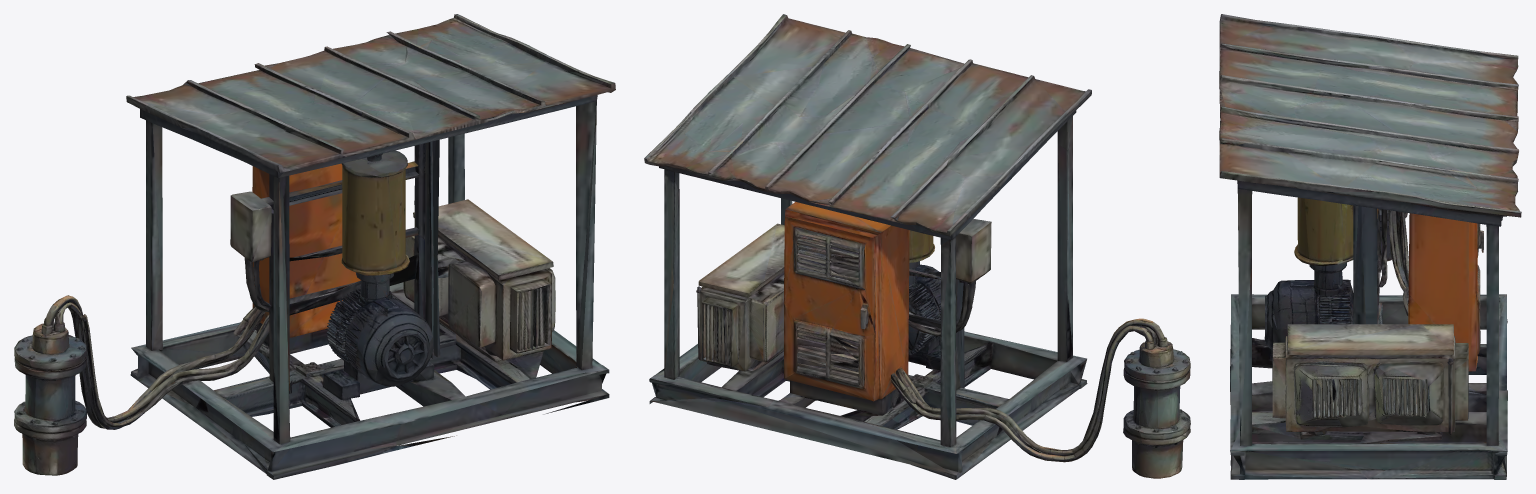
Rendered from esp.glb.
3 views of the same model, side by side, from view 1: azimuth 30°, elevation 25°; view 2: azimuth 150°, elevation 25°; view 3: azimuth 270°, elevation 25° (orthographic). The views are drawn at different scales.
Size of the model in its own units: 1.9 by 1.13 by 0.9924.
Materials: 1 (1 with a texture image).
